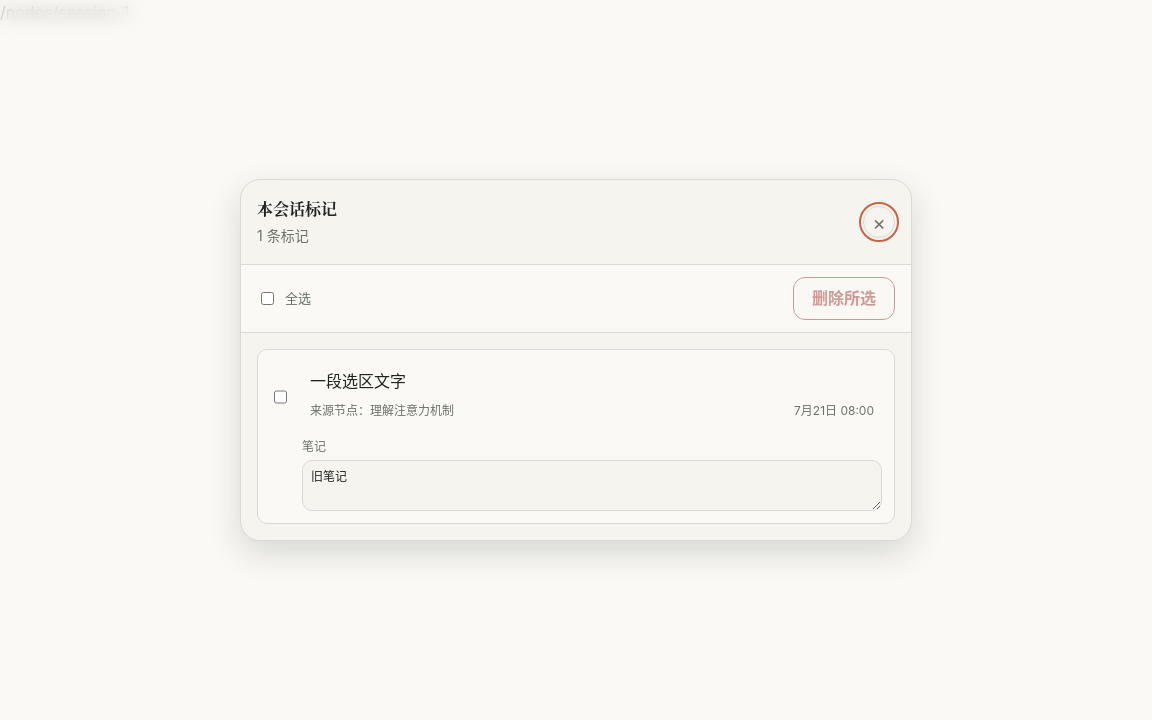
当前会话标记弹窗 › 可编辑笔记、全选并永久删除
The width and height of the screenshot is (1152, 720).
Replace the text in the text box named "编辑标记笔记" with "新的核验笔记": (592, 486) [302, 460, 882, 511]
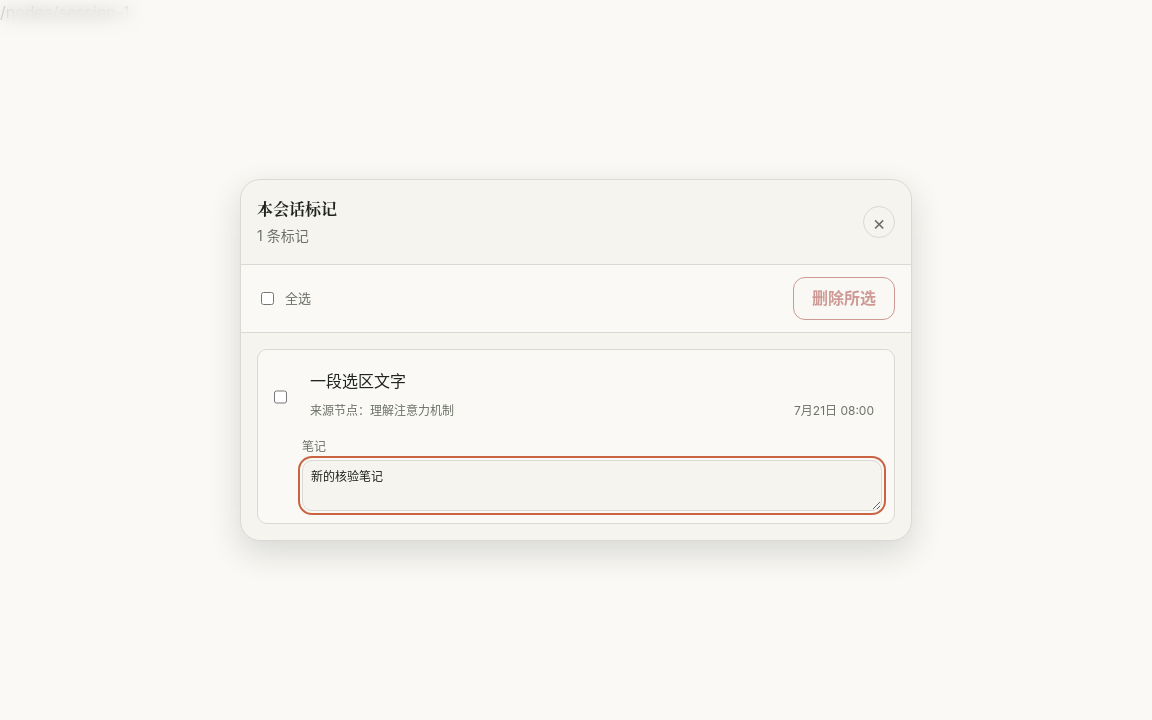
Press Tab
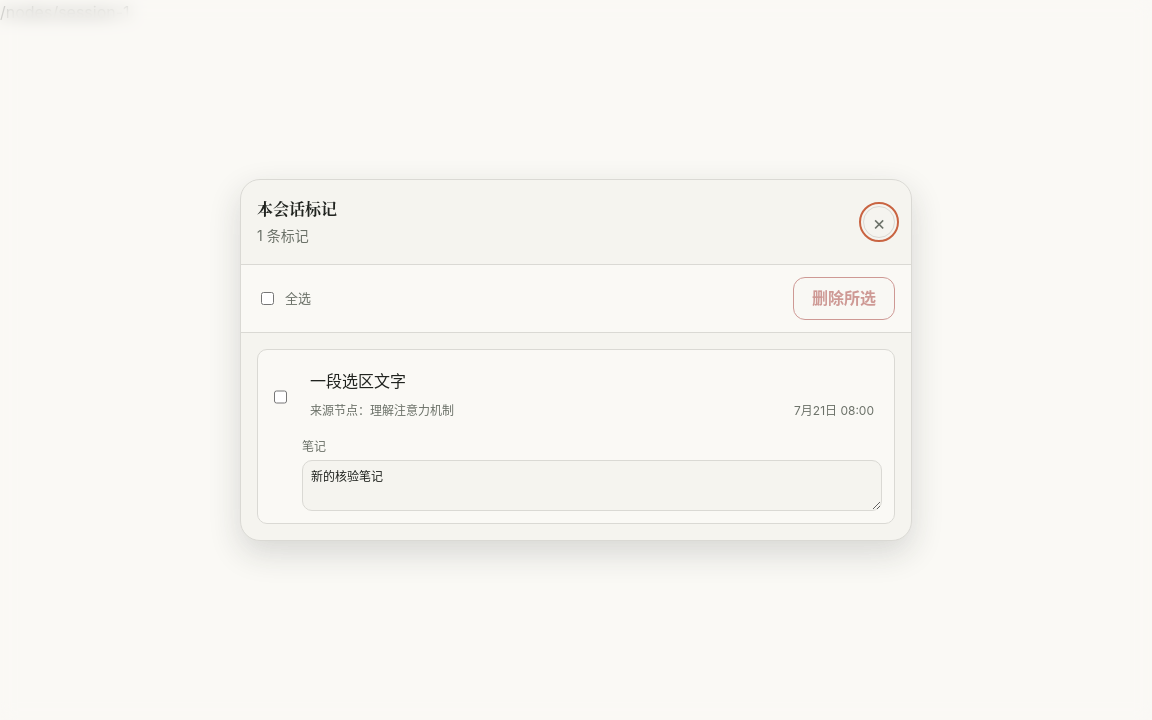
Click the checkbox labelled "全选": (268, 298) [261, 292, 274, 305]
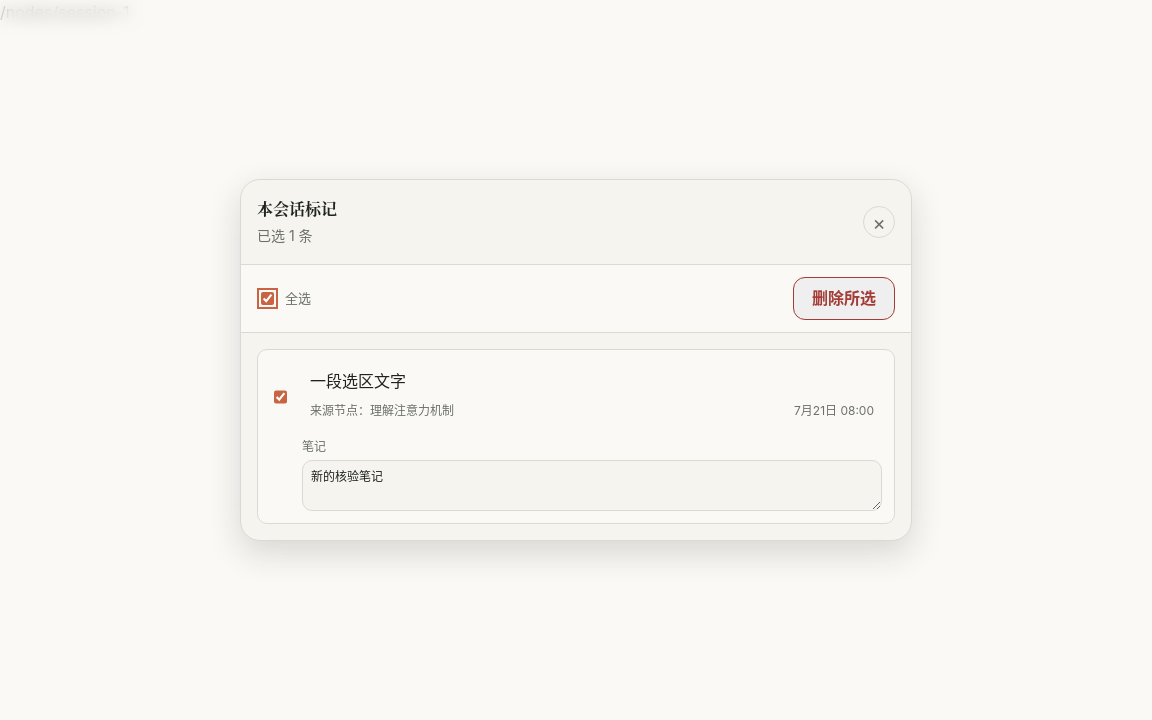
Click the button "删除所选": (844, 298) [793, 277, 895, 320]
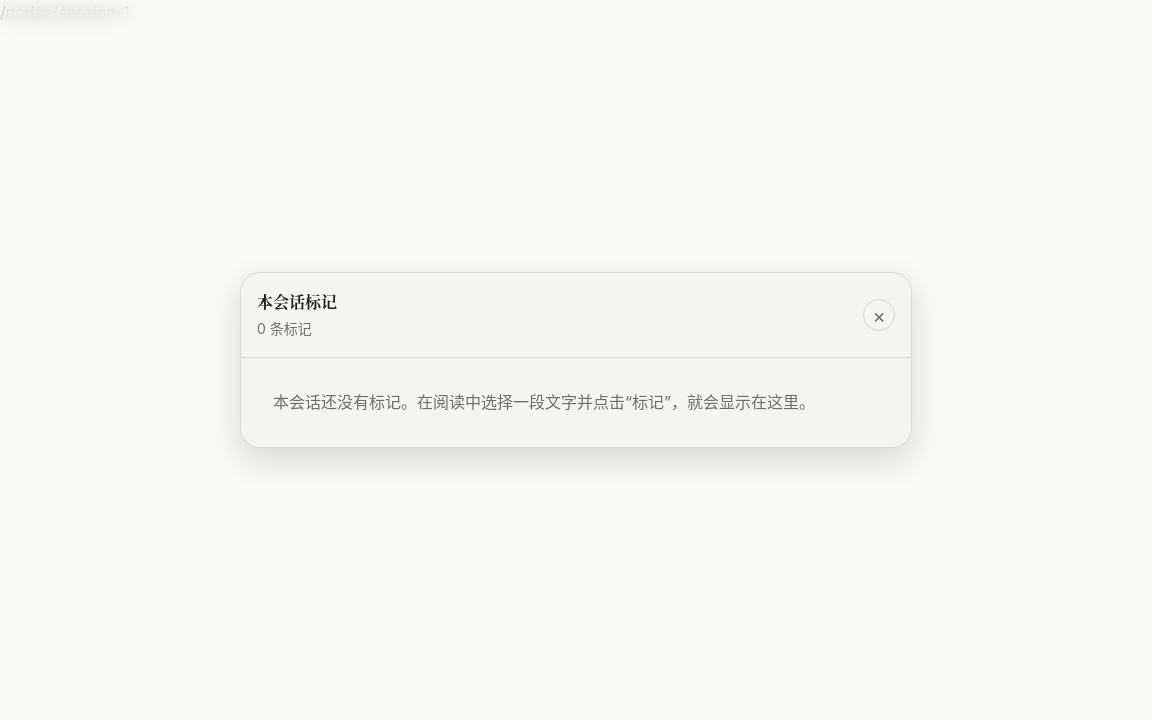
Check: the text "本会话还没有标记。在阅读中选择一段文字并点击“标记”，就会显示在这里。" is shown, box [273, 392, 815, 412]
